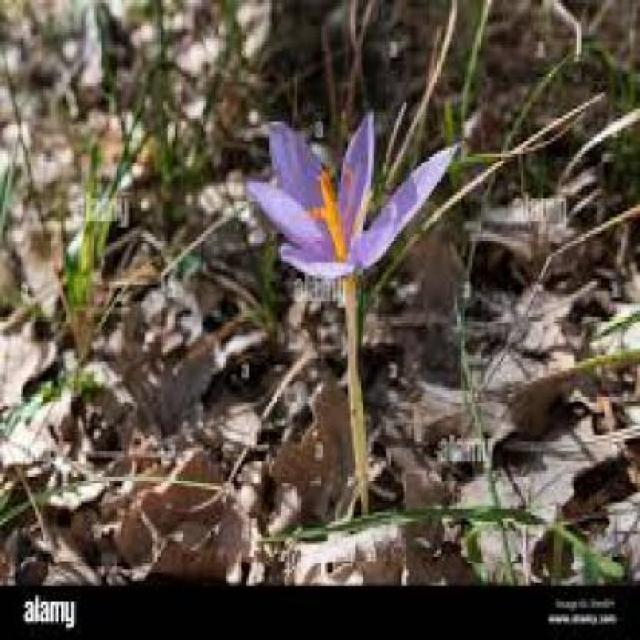saffron open: (246, 114, 456, 513)
